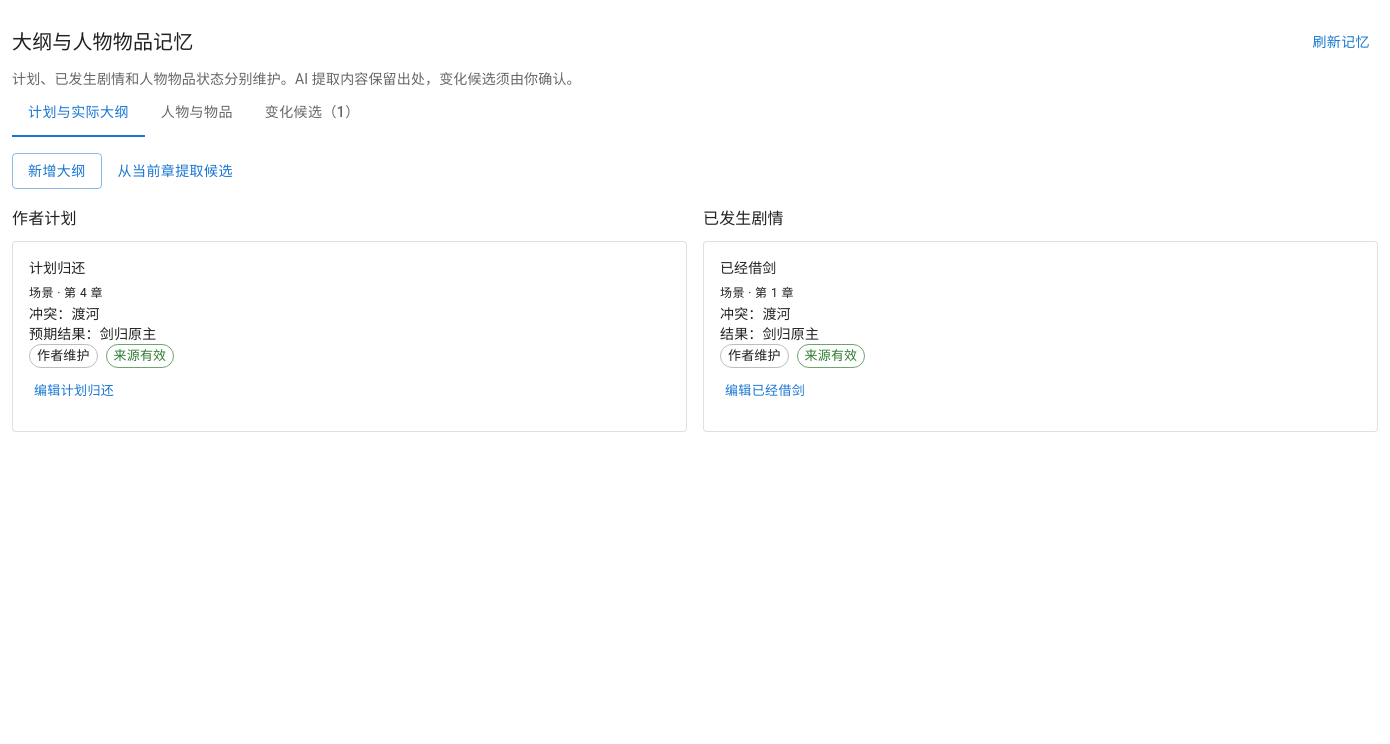
Test: 结构化记忆工作区 › 按章读取状态并可查看持有者历史区间
The image size is (1390, 744).
Click the tab "人物与物品". click: (197, 112)
box: [145,88,249,136]
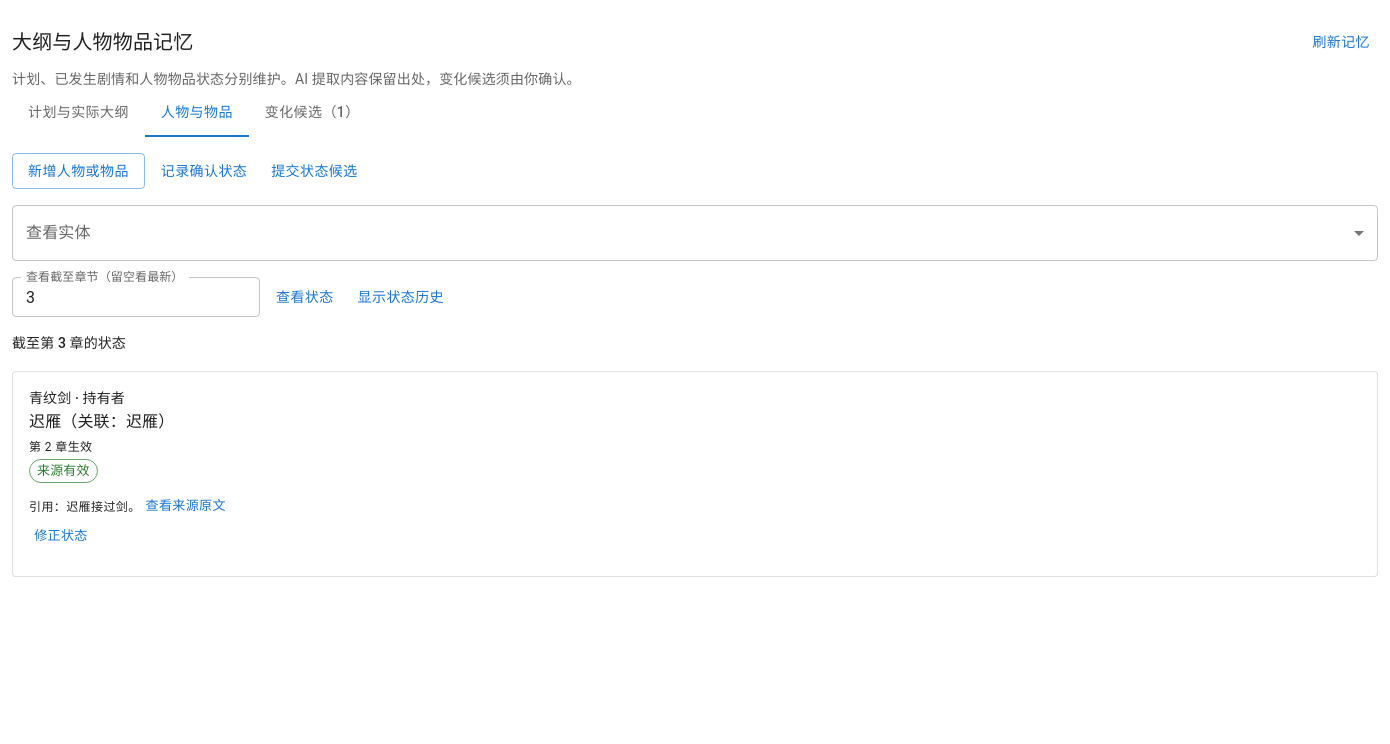
Expected: the heading "截至第 3 章的状态" is shown, [12,335,126,351]
Replace the text in the field labelled "查看截至章节（留空看最新）" with "1". click: (136, 297)
box: [12,277,260,317]
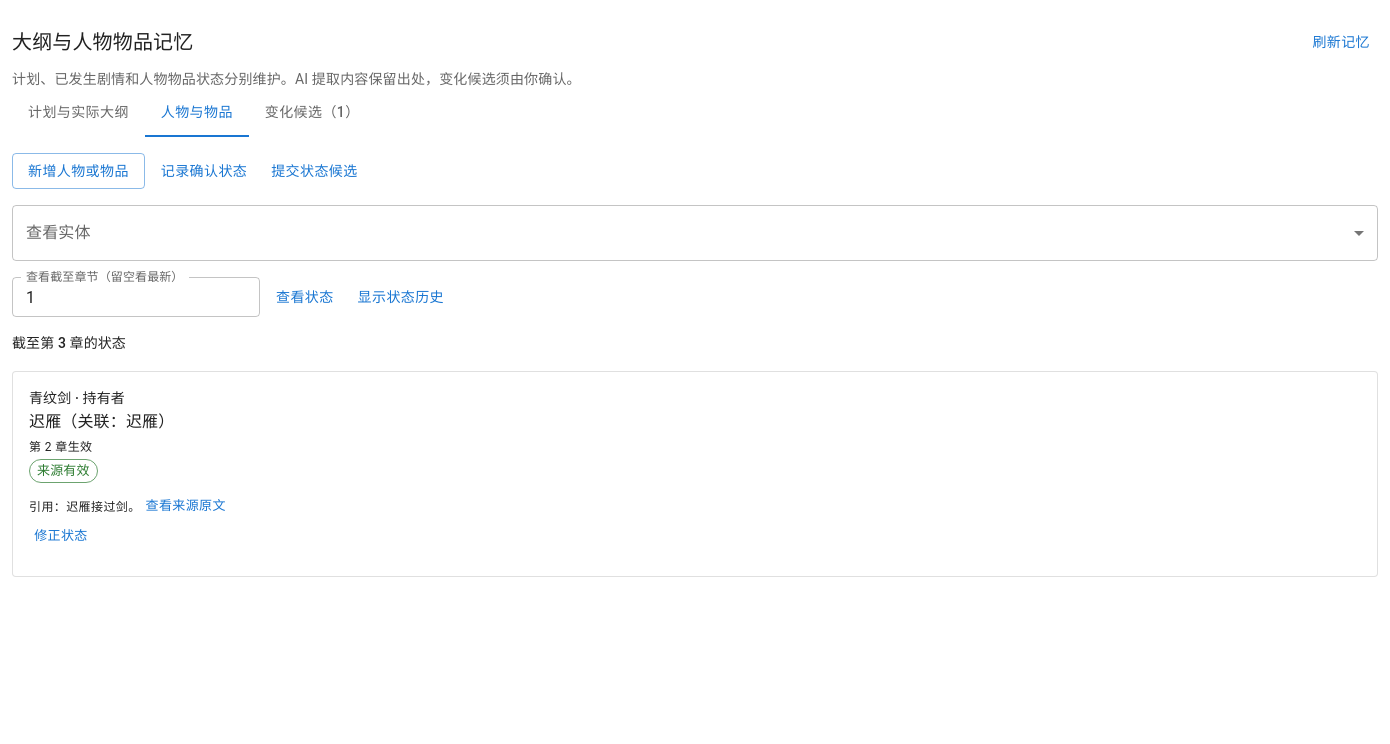
Click the button "查看状态". click: (305, 297)
box: [268,279,342,315]
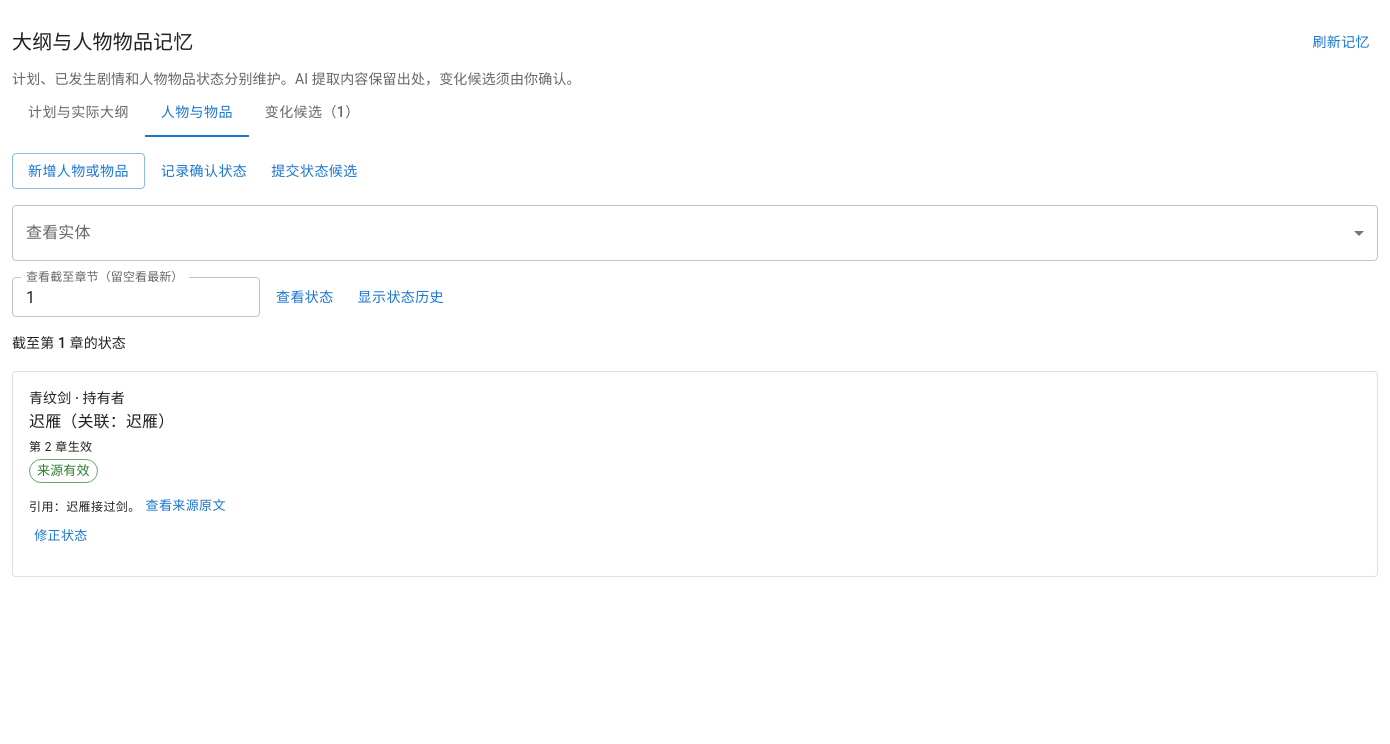
Click the button "显示状态历史". click: (401, 297)
box: [350,279,452,315]
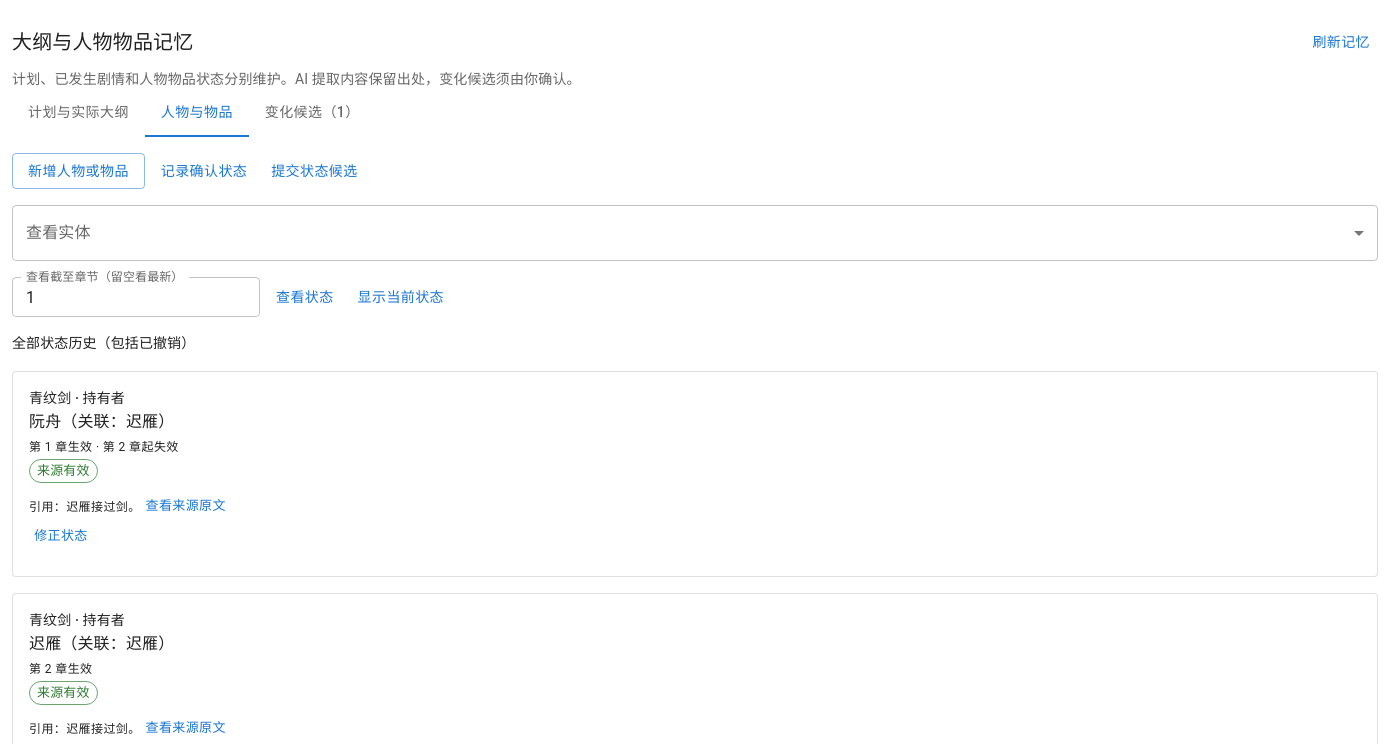
Expected: the text "第 1 章生效 · 第 2 章起失效" is shown, [29,440,179,454]
